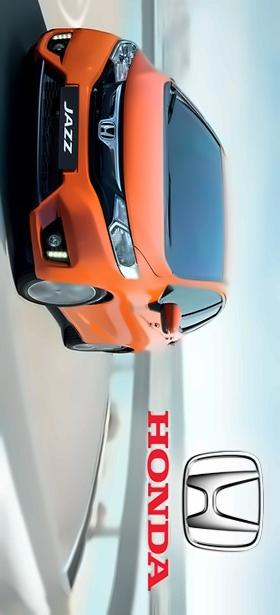Car hood: (122, 44, 174, 279)
Fender - -F-L-: (57, 251, 167, 314)
Front bumper: (21, 21, 115, 293)
Headlight - -L-: (104, 192, 149, 287)
Headlight - -R-: (108, 33, 141, 88)
Passenger-s door - -F-L-: (70, 284, 227, 326)
Passenger-s door - -R-L-: (76, 315, 229, 347)
Side bumper - -L-: (49, 303, 108, 346)
Side mirror - -L-: (155, 291, 187, 342)
